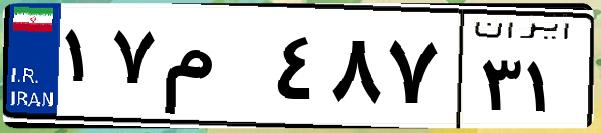1: (57, 26, 110, 100), (525, 38, 570, 115)
3: (475, 38, 525, 113)
4: (270, 28, 330, 110)
7: (385, 28, 445, 110), (110, 28, 158, 98)
8: (330, 28, 385, 110)
م: (158, 20, 270, 120)
